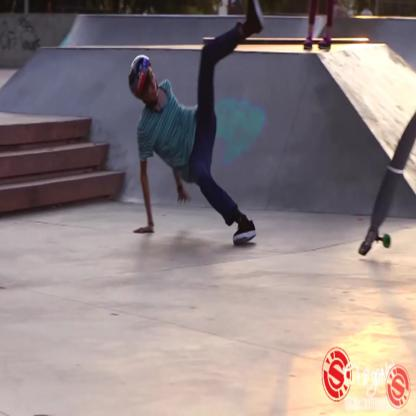Fall_Down: (130, 2, 266, 248)
